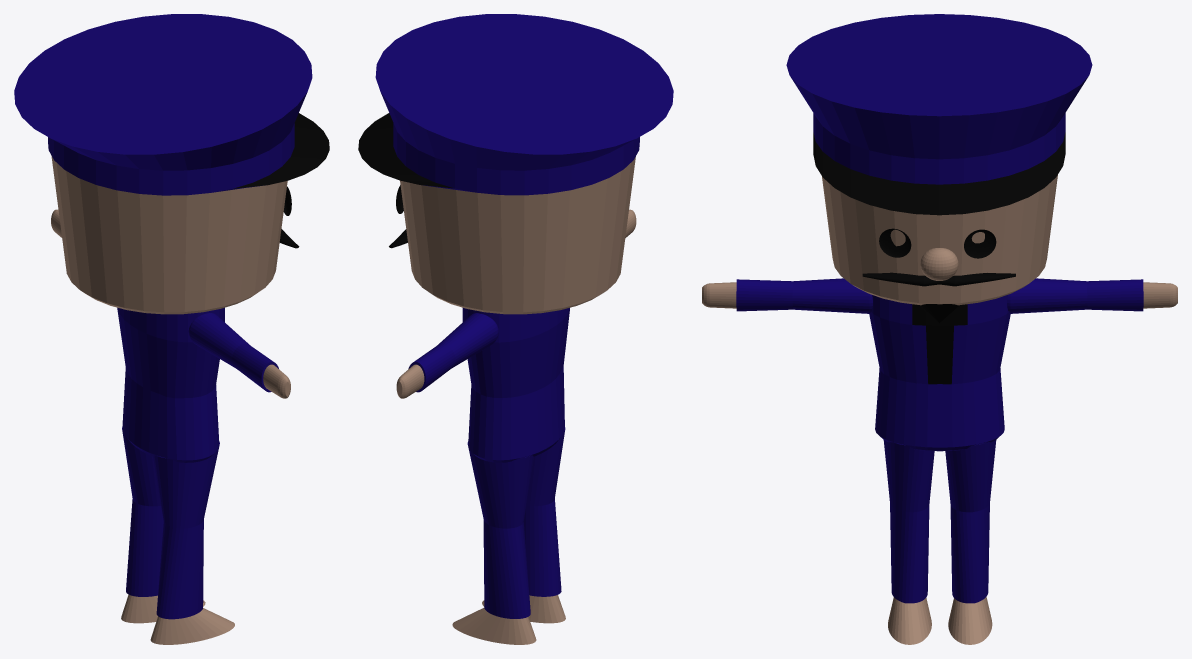
Rendered from blue_goatee.fbx.
The picture shows the model from 3 angles, left to right: view 1: azimuth 30°, elevation 25°; view 2: azimuth 150°, elevation 25°; view 3: azimuth 270°, elevation 25°; orthographic projection. The views are drawn at different scales.
Visible parts, largest first — view 1: Hat.001, Headd.002, Cylinder.049, Cylinder.052, Cylinder.053, Cylinder.050, Cylinder.047, Cylinder.038, Cylinder.055; view 2: Hat.001, Headd.002, Cylinder.049, Cylinder.053, Cylinder.052, Cylinder.051, Cylinder.038, Cylinder.047, Cylinder.056; view 3: Hat.001, Cylinder.049, Headd.002, Cylinder.053, Cylinder.052, Cylinder.051, Cylinder.050, Cylinder.038, Cylinder.047, Cylinder.014, Eyes.007, Sphere.002 (+2 smaller).
Part boxes in pixels (x1=…): Hat.001: x1=14, y1=14, x2=329, y2=195; Headd.002: x1=51, y1=155, x2=287, y2=314; Cylinder.049: x1=117, y1=307, x2=224, y2=462; Cylinder.052: x1=152, y1=442, x2=219, y2=619; Cylinder.053: x1=122, y1=426, x2=163, y2=596; Cylinder.050: x1=188, y1=313, x2=278, y2=392; Cylinder.047: x1=150, y1=608, x2=234, y2=644; Cylinder.038: x1=121, y1=594, x2=205, y2=623; Cylinder.055: x1=263, y1=364, x2=290, y2=398; Hat.001: x1=358, y1=14, x2=673, y2=195; Headd.002: x1=400, y1=156, x2=635, y2=314; Cylinder.049: x1=462, y1=308, x2=569, y2=462; Cylinder.053: x1=467, y1=441, x2=534, y2=618; Cylinder.052: x1=523, y1=427, x2=565, y2=596; Cylinder.051: x1=408, y1=313, x2=498, y2=392; Cylinder.038: x1=452, y1=608, x2=536, y2=644; Cylinder.047: x1=482, y1=595, x2=565, y2=623; Cylinder.056: x1=396, y1=364, x2=424, y2=398; Hat.001: x1=786, y1=14, x2=1092, y2=215; Cylinder.049: x1=869, y1=295, x2=1010, y2=451; Headd.002: x1=822, y1=175, x2=1057, y2=305; Cylinder.053: x1=945, y1=440, x2=996, y2=603; Cylinder.052: x1=883, y1=440, x2=934, y2=603; Cylinder.051: x1=1007, y1=278, x2=1143, y2=313; Cylinder.050: x1=736, y1=278, x2=872, y2=313; Cylinder.038: x1=948, y1=597, x2=992, y2=644; Cylinder.047: x1=888, y1=597, x2=931, y2=644; Cylinder.014: x1=862, y1=272, x2=1015, y2=286; Eyes.007: x1=879, y1=228, x2=996, y2=258; Sphere.002: x1=920, y1=248, x2=958, y2=280.
Size of the model in its own units: 239 by 453 by 346.
